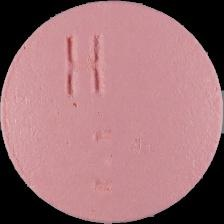54868-2893: (0, 0, 224, 224)
